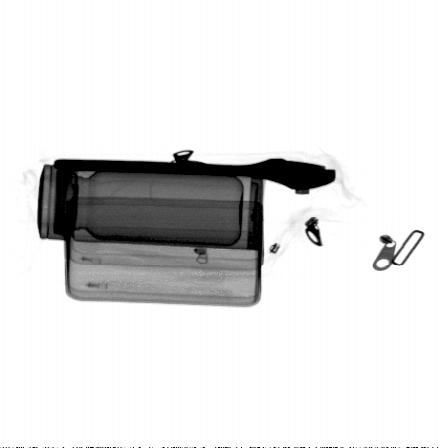Wrench: (52, 156, 338, 194)
